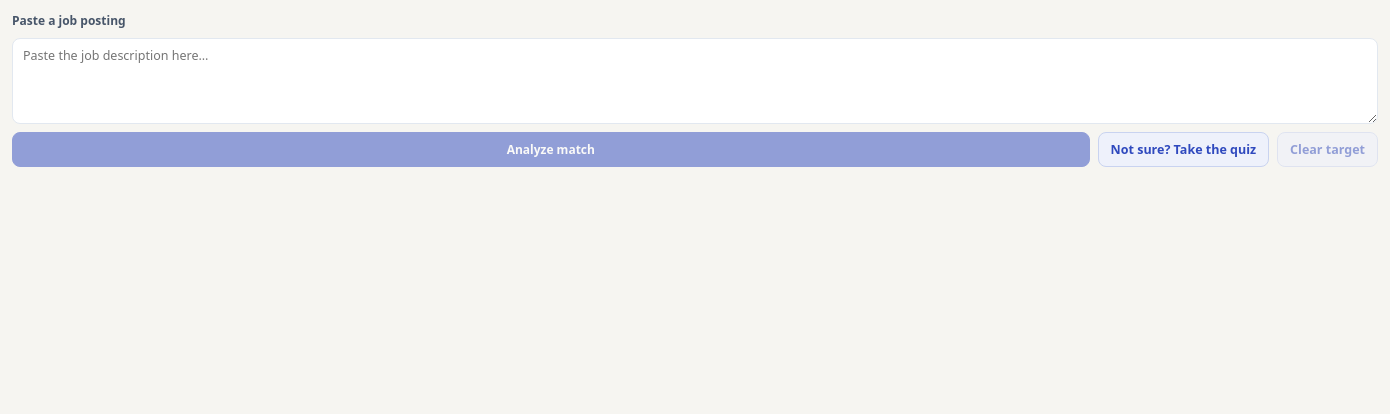
JobTailor › analyze renders matched, missing, and suggestions
Step 1. Type "Retail associate: POS, inventory, customer service" into the text box labelled "Paste a job posting" → (695, 81), box [12,38,1378,124]
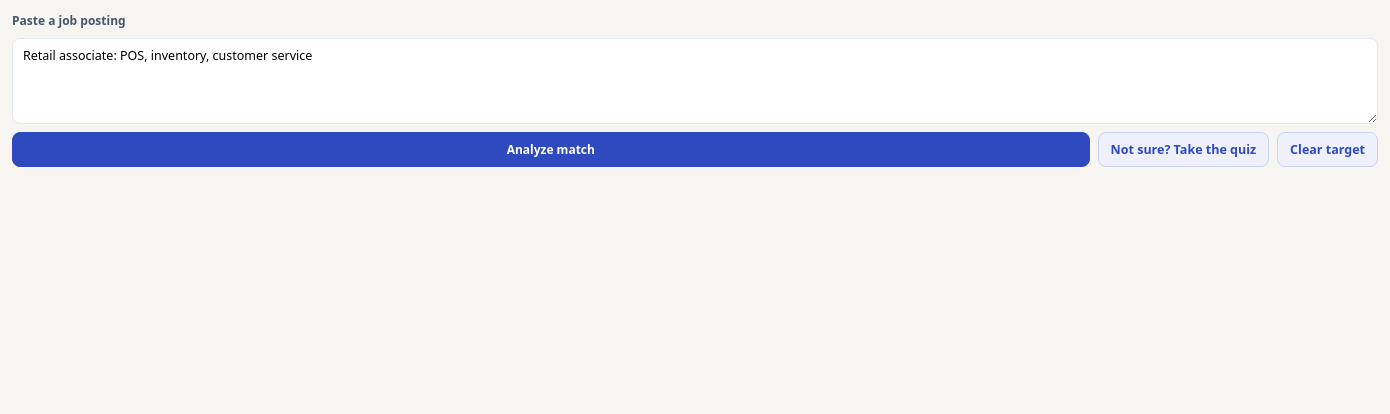
Step 2. Click the button "Analyze match" → (551, 150), box [12,132,1090,167]
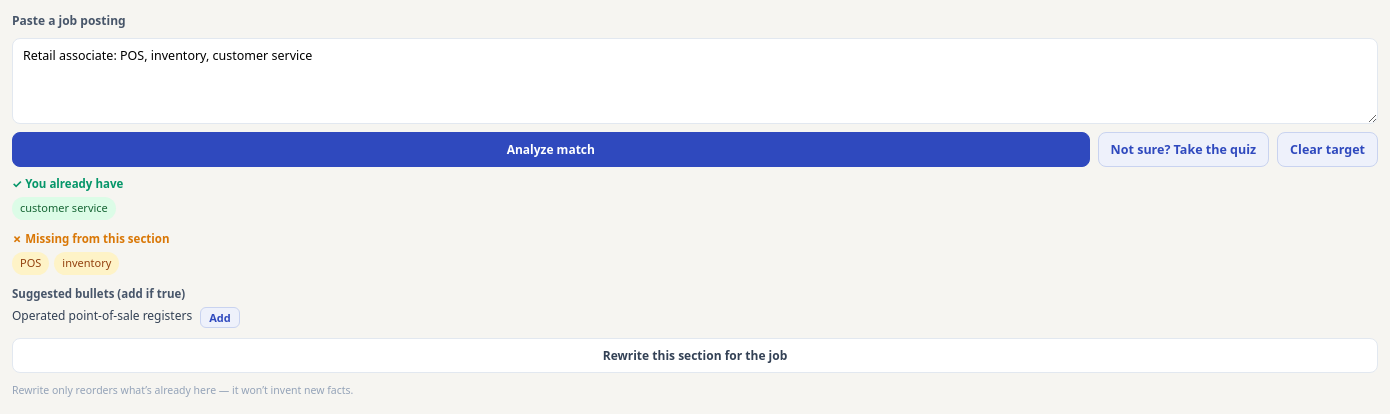
Check: the text "customer service" is shown, box [12,197,116,220]
Check: the text "POS" is shown, box [12,252,49,274]
Check: the text "Operated point-of-sale registers" is shown, box [12,307,192,325]
